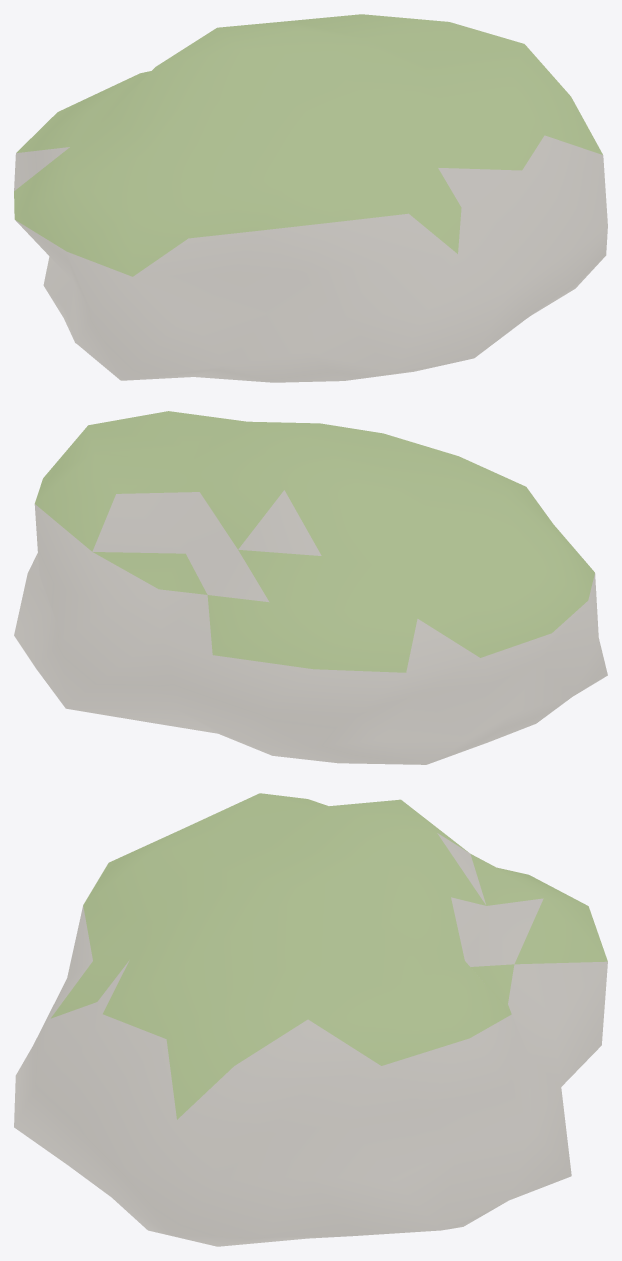
The model's file is Blender_BoulderRound_4.glb.
3 renders of one model, top to bottom at view 1: azimuth 30°, elevation 25°; view 2: azimuth 150°, elevation 25°; view 3: azimuth 270°, elevation 25°, orthographic. The views are drawn at different scales.
Parts seen in each view (by area): view 1: Blender_BoulderRound_4; view 2: Blender_BoulderRound_4; view 3: Blender_BoulderRound_4.
Part boxes in pixels (left/top/right/bottom): Blender_BoulderRound_4: left=14, top=14, right=607, bottom=382; Blender_BoulderRound_4: left=14, top=411, right=607, bottom=764; Blender_BoulderRound_4: left=14, top=793, right=607, bottom=1246.
Bounding box in the file's own units: 3.01 × 1.38 × 2.56.
